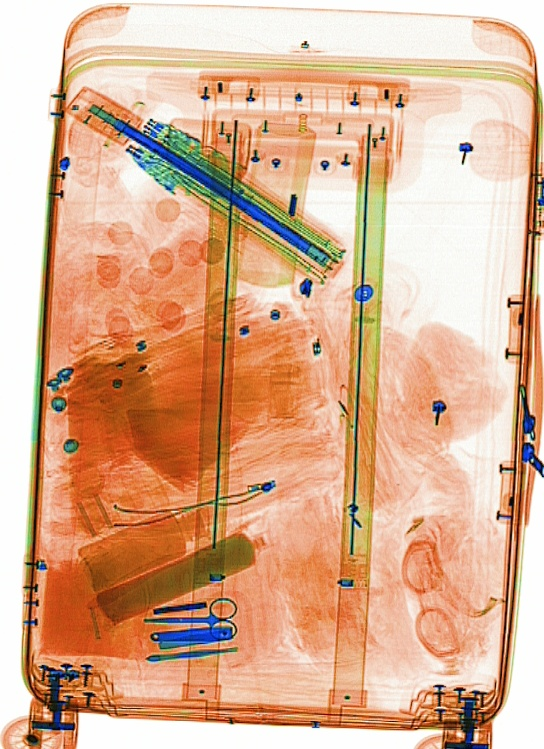scissors: (141, 595, 240, 642)
